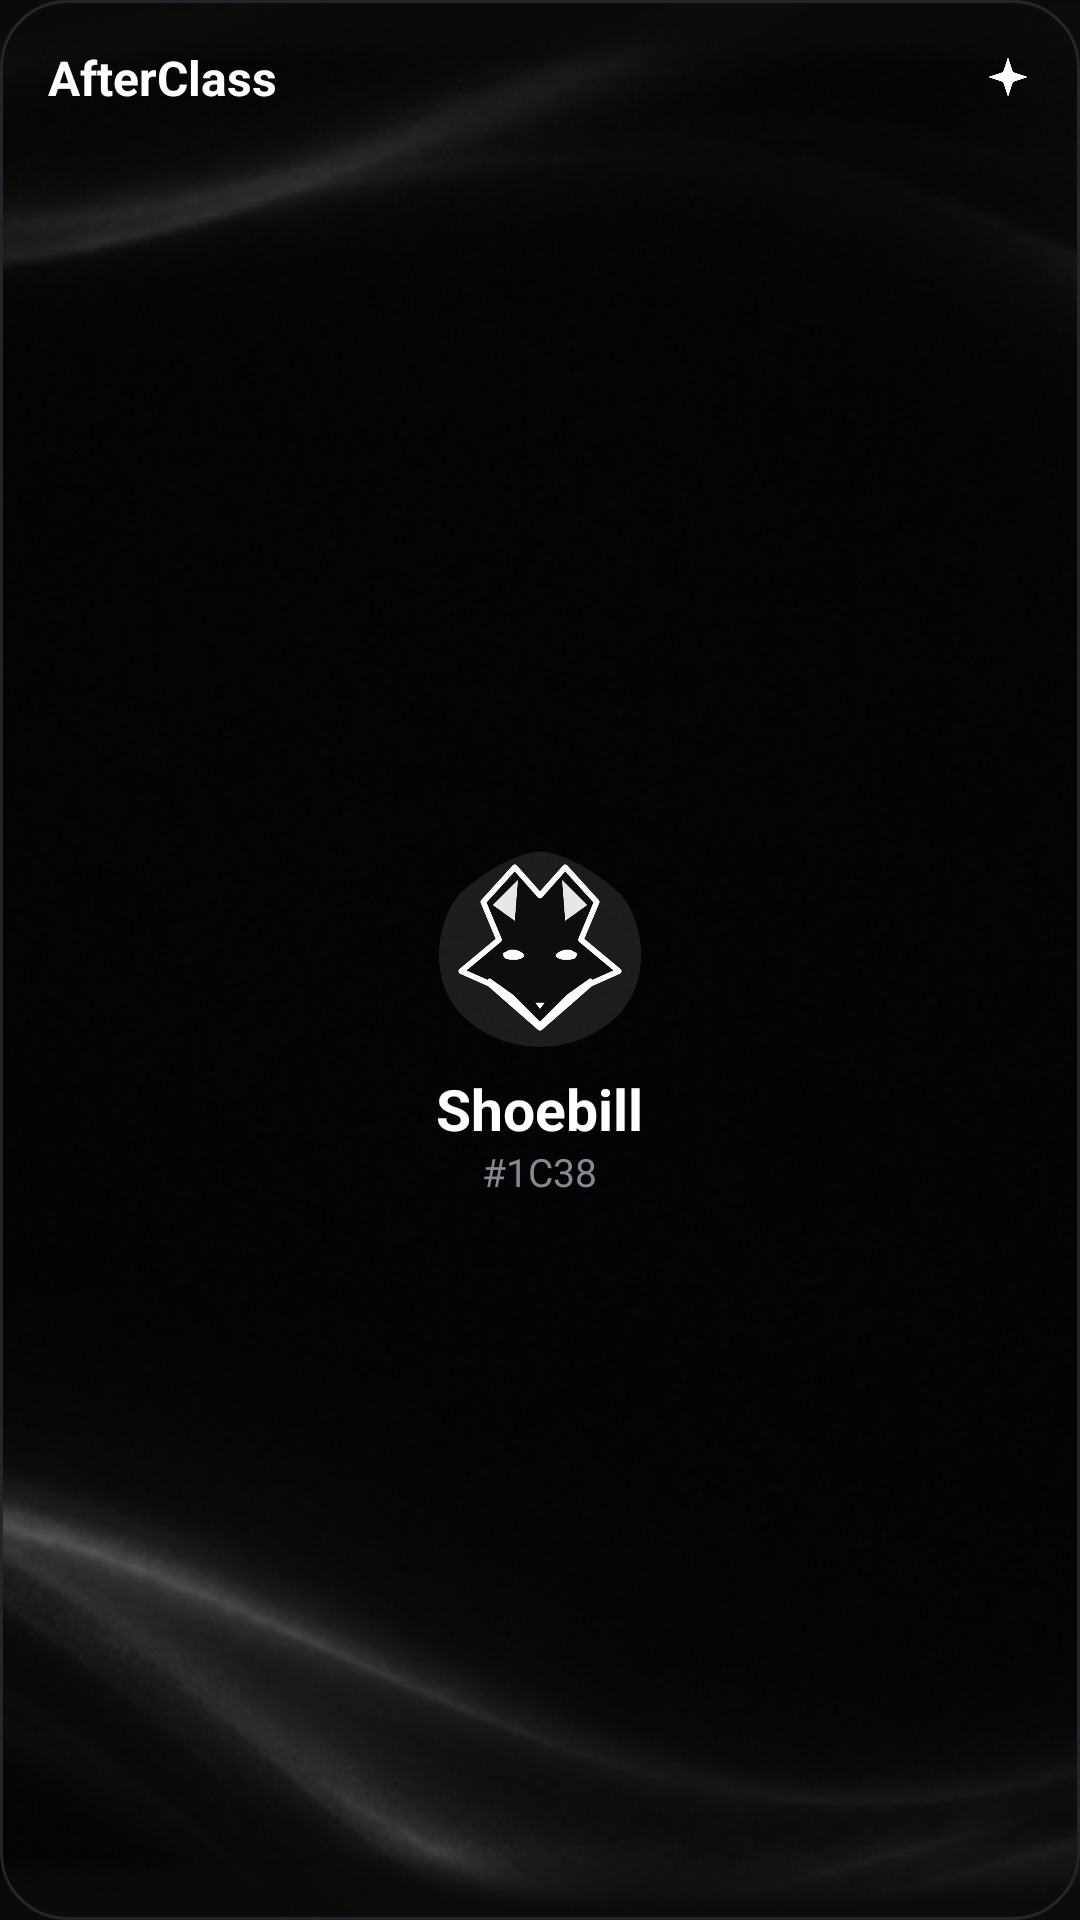

Icons on this 1080 x 1920 Android screen, each with its box as Rect(x1, y1, x2, y2):
widget sparkle: Rect(989, 58, 1027, 96)
